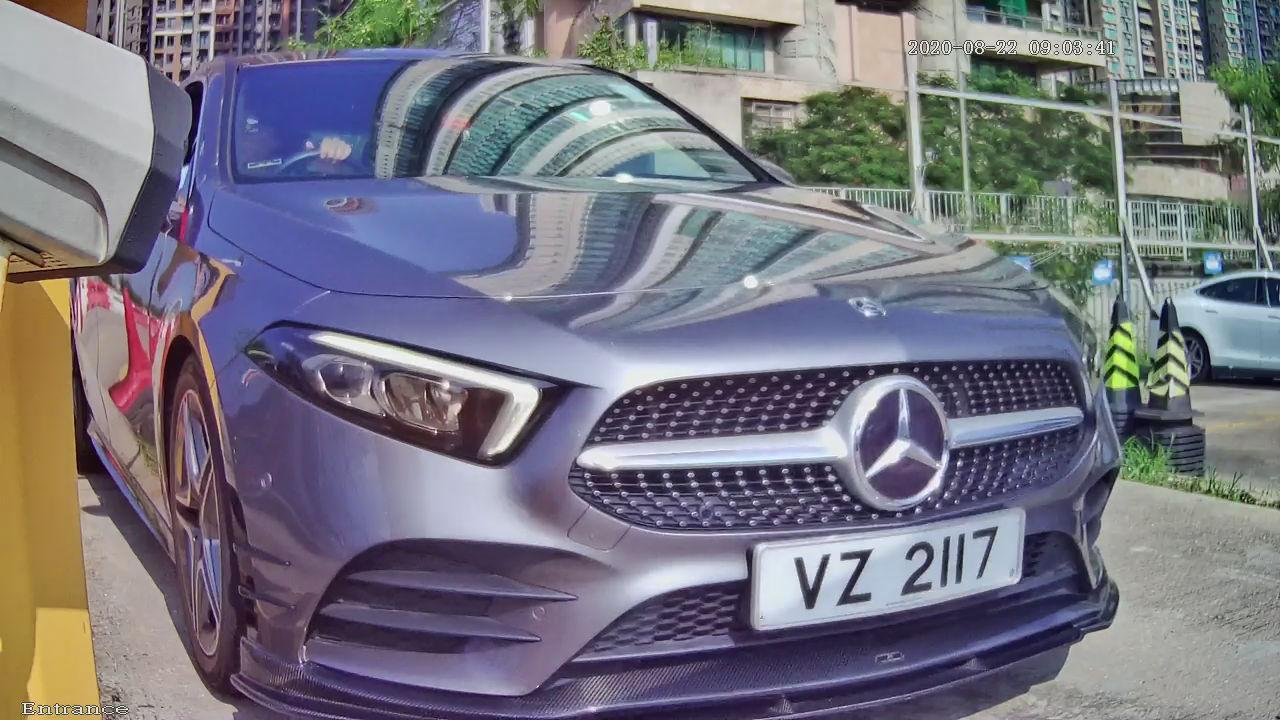Car: (29, 7, 1183, 720)
License Plate: (687, 493, 1079, 648)
